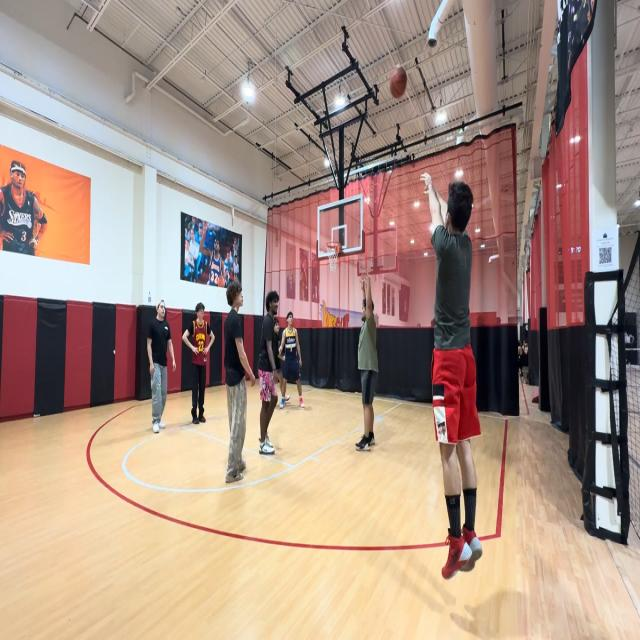Basketball: (389, 64, 407, 98)
Basketball Rim: (326, 240, 341, 272)
Player: (418, 170, 486, 581), (222, 280, 256, 481), (257, 290, 283, 456), (355, 268, 378, 452), (183, 301, 216, 426), (147, 298, 177, 433), (280, 310, 306, 410)
